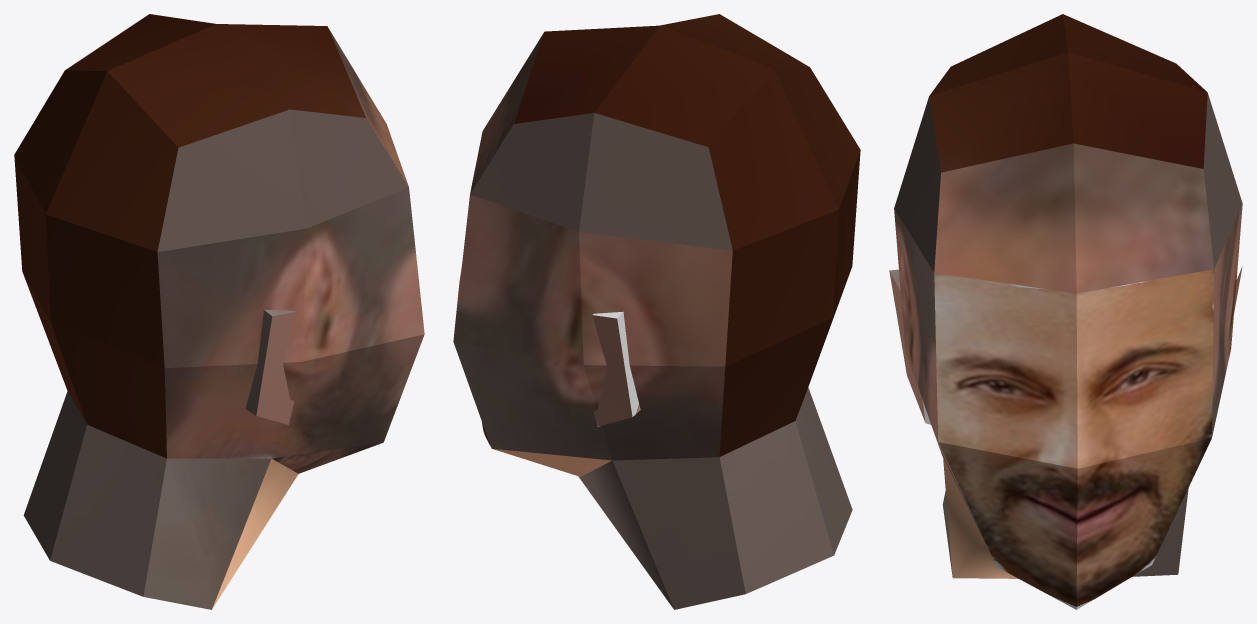
The model's file is selmon_bhai.fbx.
3 views of the same model, side by side, from view 1: azimuth 30°, elevation 25°; view 2: azimuth 150°, elevation 25°; view 3: azimuth 270°, elevation 25° (orthographic). The views are drawn at different scales.
Parts seen in each view (by area): view 1: Cylinder; view 2: Cylinder; view 3: Cylinder.
Part boxes in pixels (x1,y1,x2,y2): Cylinder: (14, 14, 424, 609); Cylinder: (453, 14, 860, 609); Cylinder: (889, 14, 1242, 609).
Size of the model in its own units: 289 by 395 by 227.
Materials: 1 (1 with a texture image).
